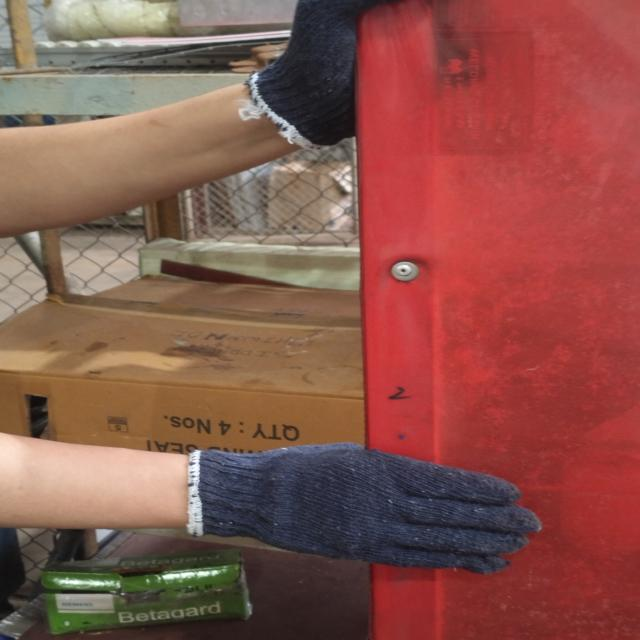Gloves-Detection: (188, 436, 510, 570), (232, 6, 380, 148)
